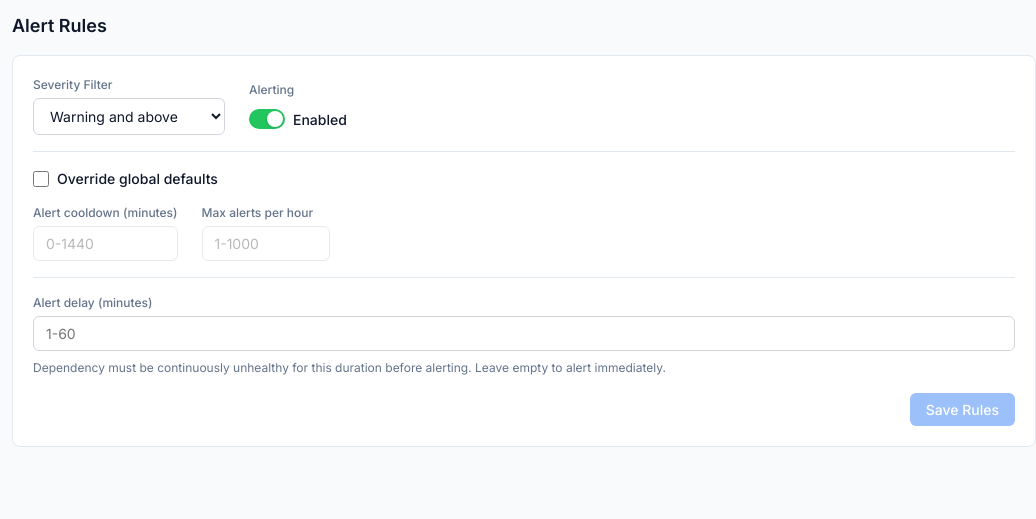
Test case: AlertRules › saves rules and shows success message
// Make a change
Select "All status changes" in the dropdown showing "Warning and above". click: (129, 116)
box: [33, 98, 225, 135]
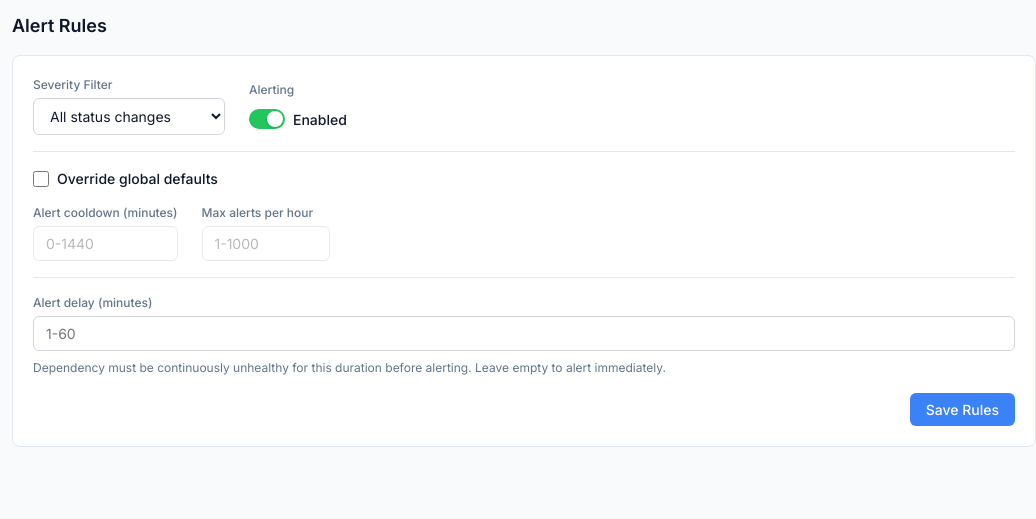
Click the button "Save Rules". click: (962, 409)
box: [910, 392, 1015, 426]
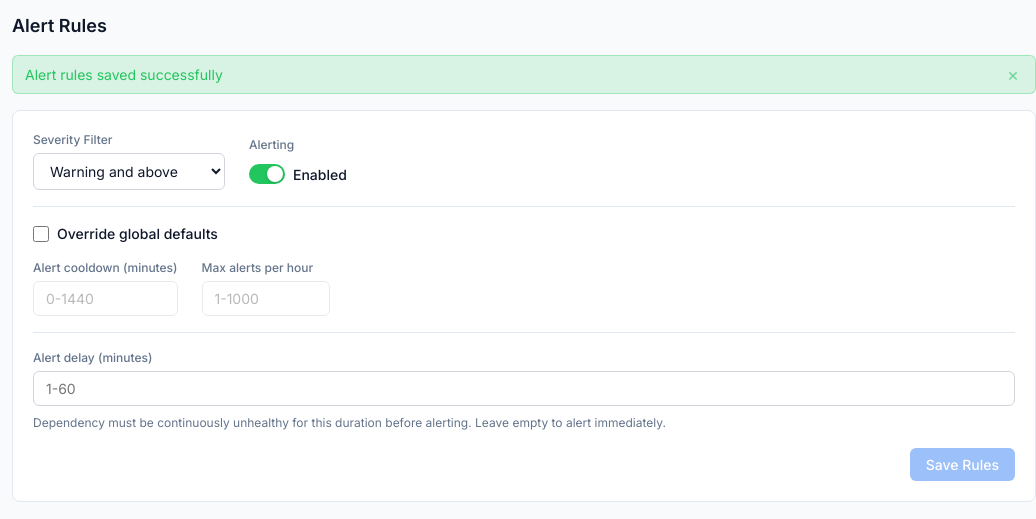
Expected: the text "Alert rules saved successfully" is shown, [25, 66, 223, 83]
